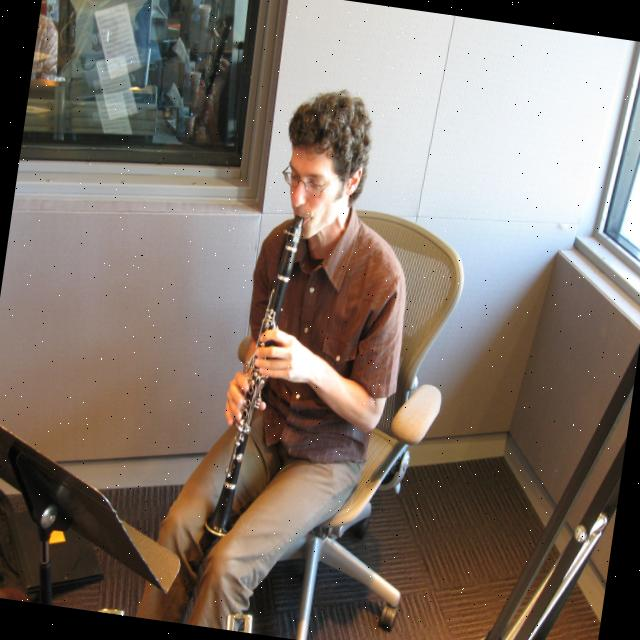clarinet: (203, 208, 308, 546)
